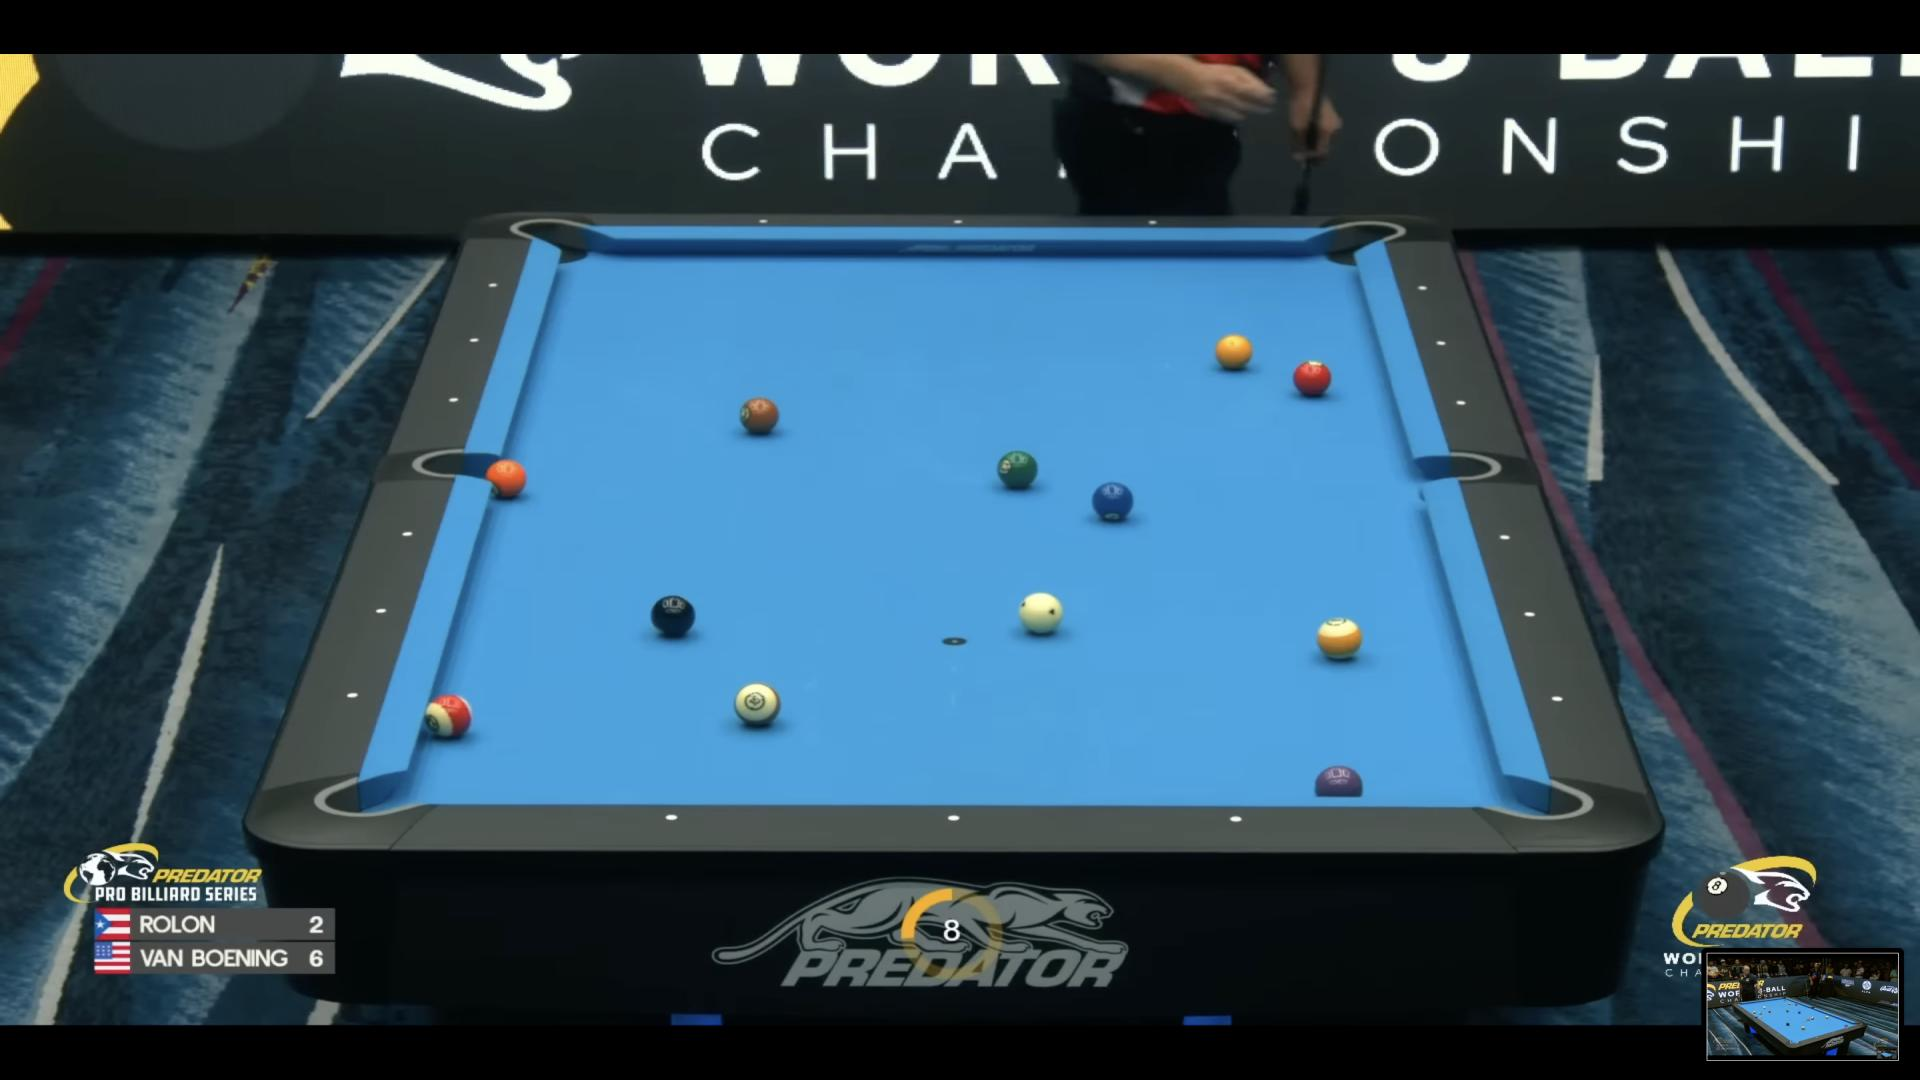Black: (650, 596, 696, 633)
Cue: (1019, 592, 1064, 633)
Dot: (1548, 691, 1567, 707), (1519, 607, 1538, 622), (663, 811, 680, 827), (945, 811, 963, 827), (1497, 530, 1514, 546), (1226, 812, 1244, 827), (400, 527, 415, 541), (344, 690, 359, 703), (373, 604, 388, 617), (952, 215, 965, 228), (757, 215, 771, 227), (1146, 216, 1160, 228), (447, 394, 459, 406), (468, 335, 480, 345), (487, 280, 498, 290), (1436, 338, 1447, 348), (1418, 284, 1428, 294), (1456, 398, 1466, 407)
Solid: (1092, 483, 1134, 521), (487, 459, 527, 497), (1316, 766, 1362, 798), (998, 451, 1038, 488), (740, 397, 781, 433), (1215, 335, 1253, 369), (1294, 361, 1331, 396)
Striped: (733, 682, 781, 727), (426, 694, 473, 738), (1316, 617, 1361, 659)
